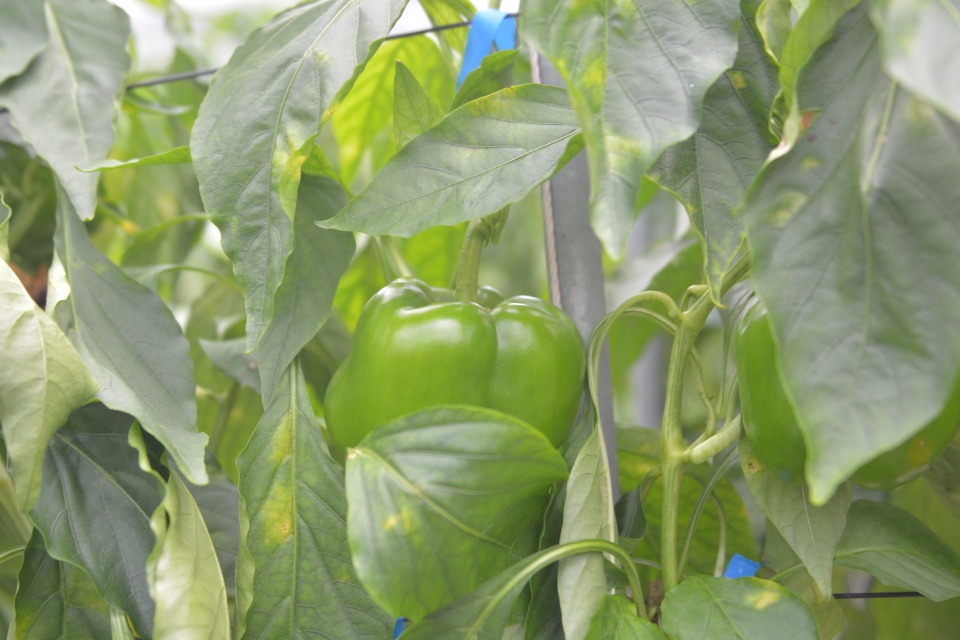fruit: (319, 273, 589, 474)
